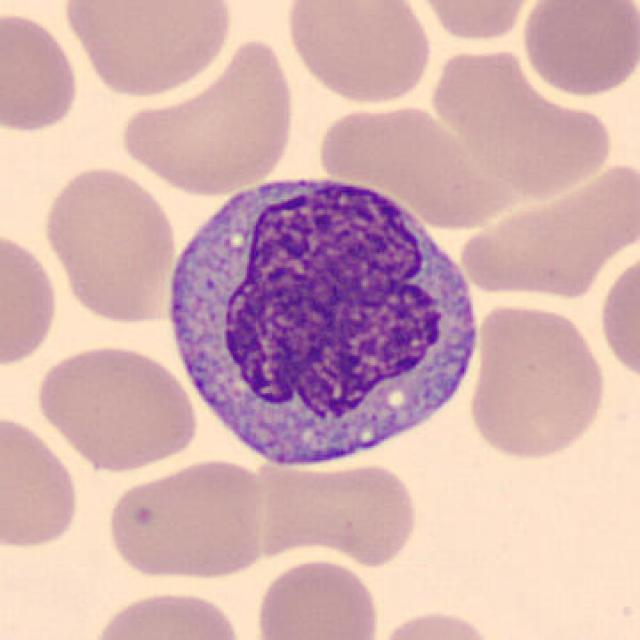Monocyte: (158, 157, 489, 483)
RBC: (116, 34, 302, 198), (317, 106, 522, 241), (435, 49, 611, 200), (462, 157, 640, 300), (464, 300, 610, 463), (38, 162, 180, 324), (30, 340, 201, 474), (103, 455, 272, 583), (58, 0, 236, 100), (269, 457, 423, 568), (281, 0, 435, 106), (0, 407, 84, 554), (517, 0, 638, 100), (250, 553, 384, 640), (0, 7, 84, 138), (0, 222, 62, 372), (87, 585, 247, 640), (407, 0, 548, 44), (596, 243, 638, 388), (371, 606, 501, 640)
